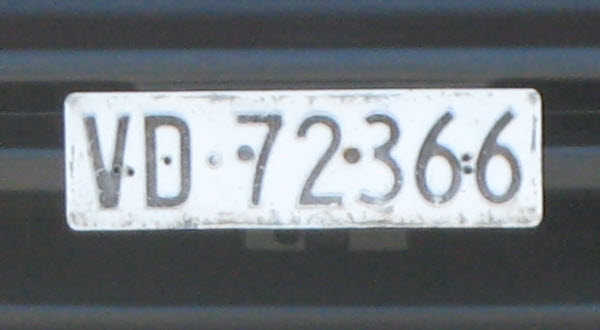license_plate: (63, 90, 543, 227)
